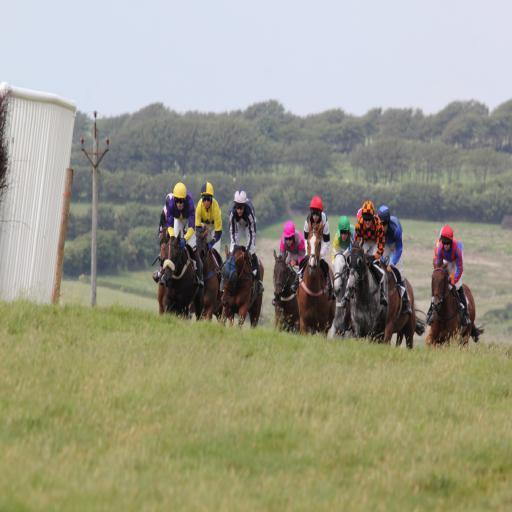horse: (426, 255, 486, 346), (296, 216, 338, 338), (347, 236, 389, 346), (379, 259, 427, 348), (221, 244, 267, 331), (164, 227, 206, 320), (196, 224, 224, 320), (271, 246, 299, 333), (332, 246, 350, 336), (158, 234, 170, 314)
